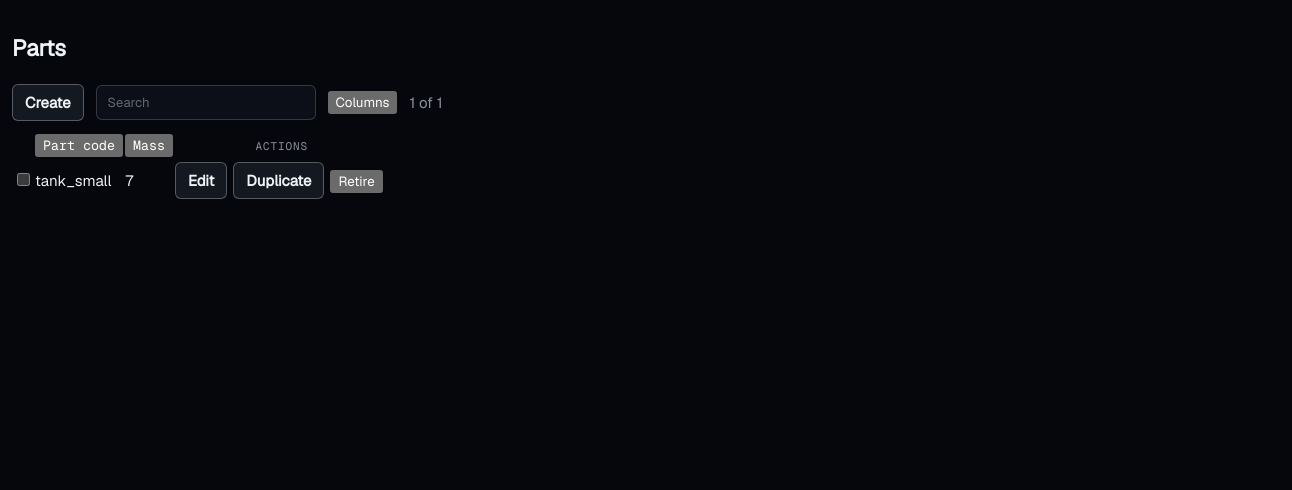
Test case: EntityScreen › duplicates any entity, not just ship formats: a part gets a fresh partType and its stats copied
What coordinates should you click on to do the following:
click the link named "Duplicate tank_small"
I would click on:
 (279, 180)
Its box is left=233, top=162, right=324, bottom=199.
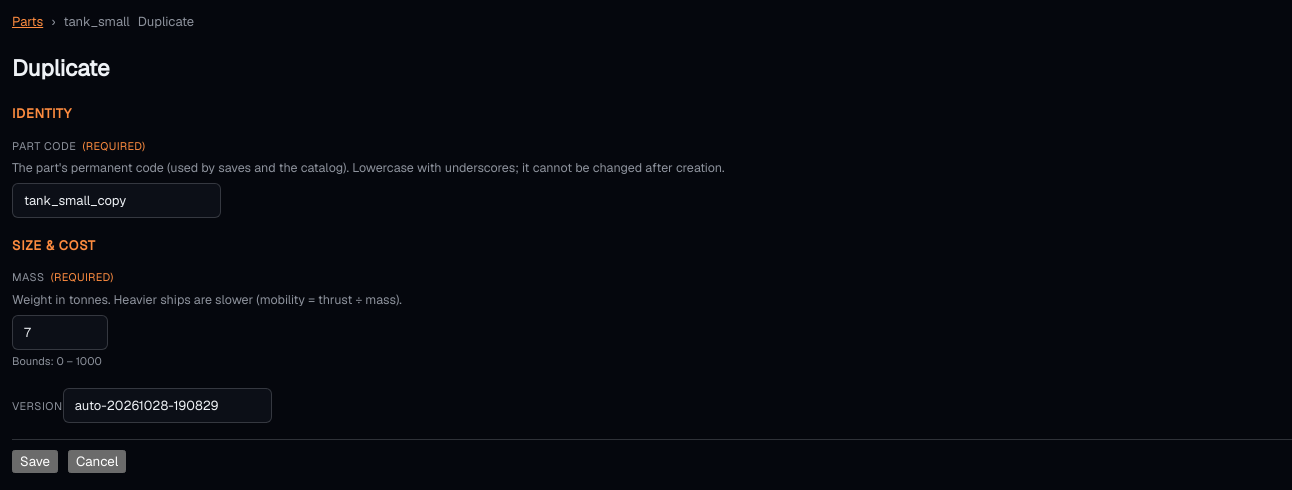
Expected: the field showing "tank_small_copy" is shown, left=12, top=183, right=221, bottom=218
Expected: the number field showing "7" is shown, left=12, top=315, right=108, bottom=350
